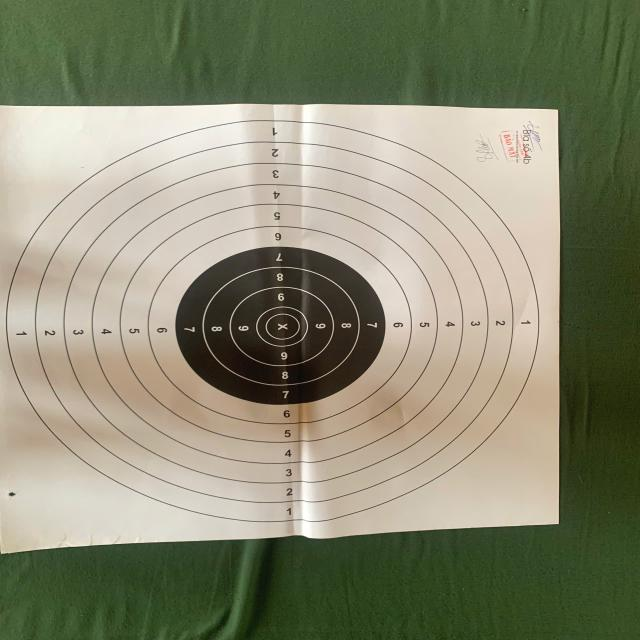bullet: (9, 491, 16, 496)
target: (0, 104, 560, 551)
